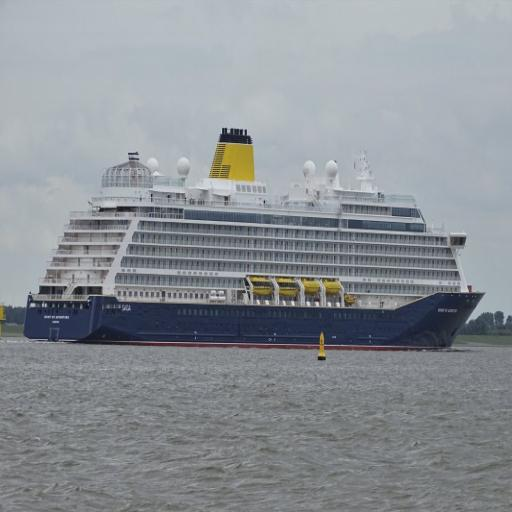cruises: (25, 119, 490, 348)
